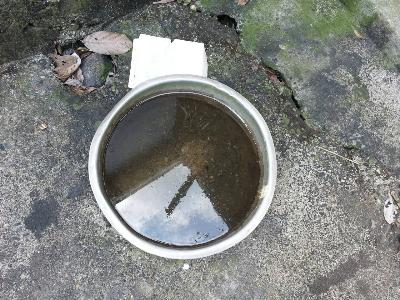bowl: (86, 73, 281, 263)
